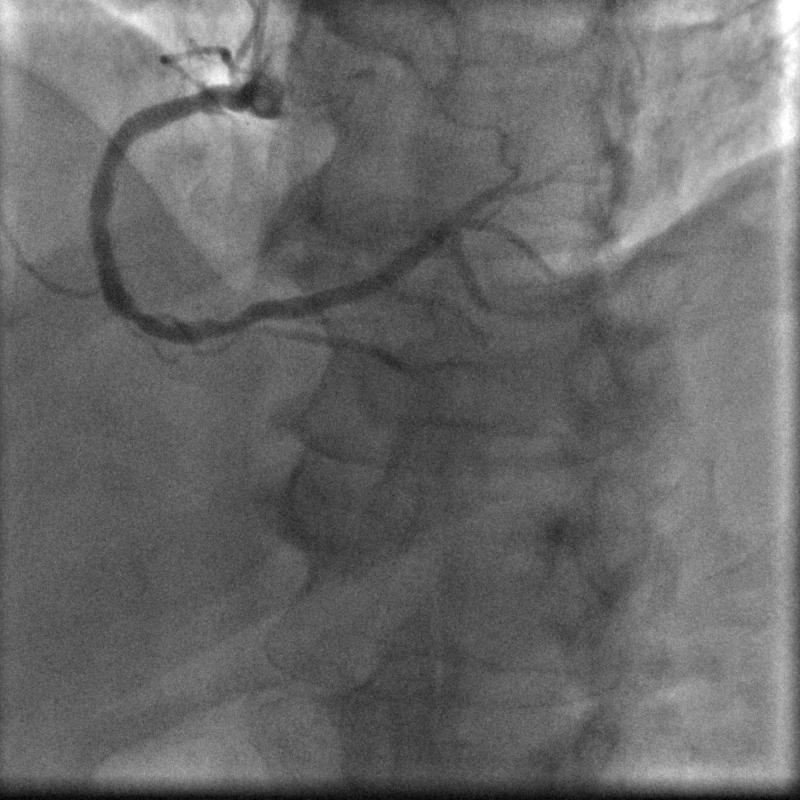Stenosis: (173, 306, 254, 337)
